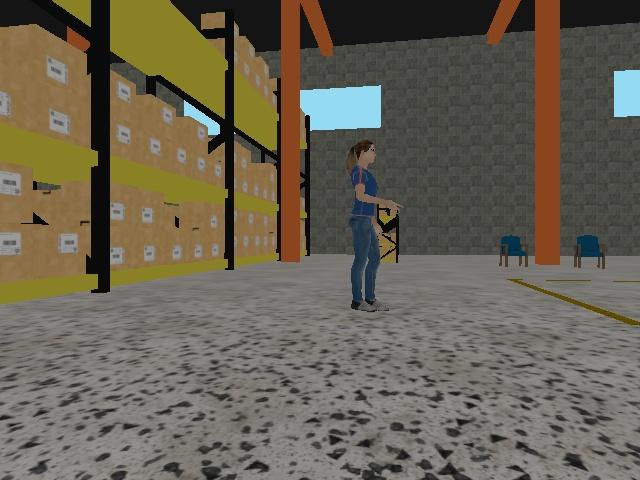chair: (573, 235, 606, 269), (499, 236, 529, 268)
person: (346, 140, 404, 312)
